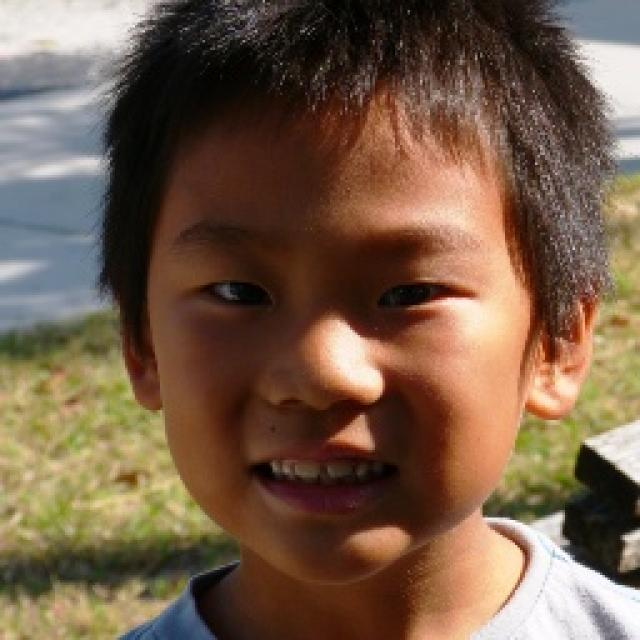earlobe: (522, 362, 578, 422), (126, 352, 163, 412)
eye: (376, 278, 466, 309), (196, 277, 272, 307)
nose: (259, 386, 388, 454)
wholeear: (523, 274, 599, 422), (119, 293, 164, 413)
